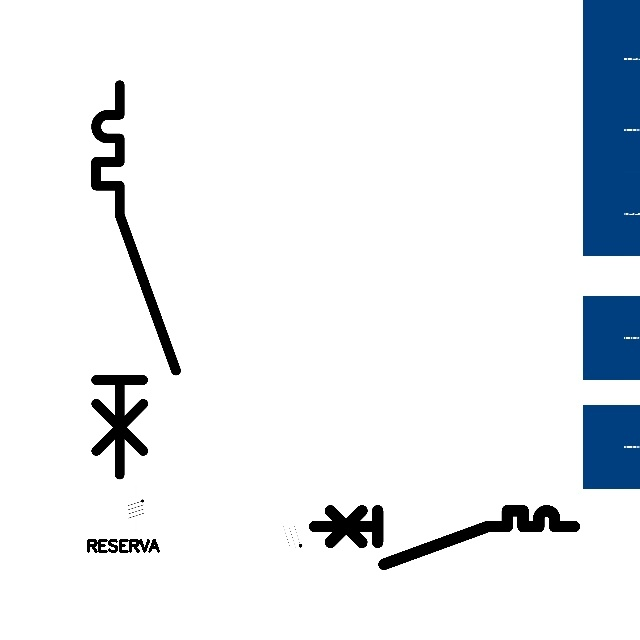interruptor_termomagnetico: (86, 75, 186, 485), (307, 504, 580, 571)
